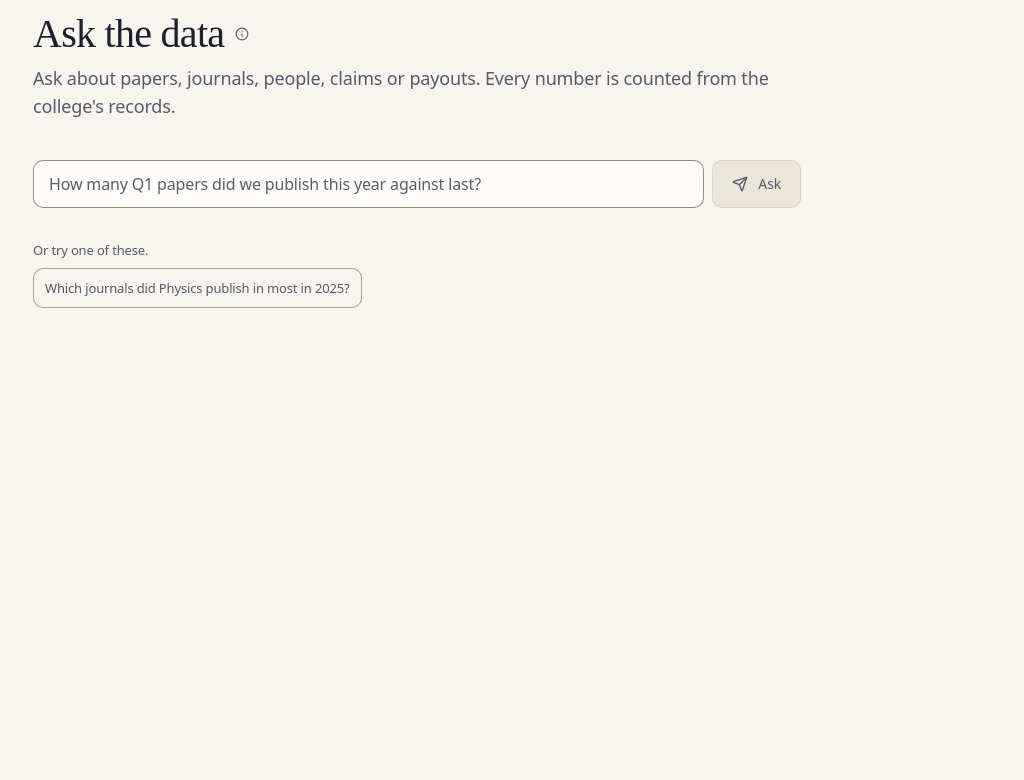
Test case: Ask the data › shows a head no money question, even one the server sent by mistake
Click the button "Which journals did Physics publish in most in 2025?": (197, 288) [33, 268, 362, 308]
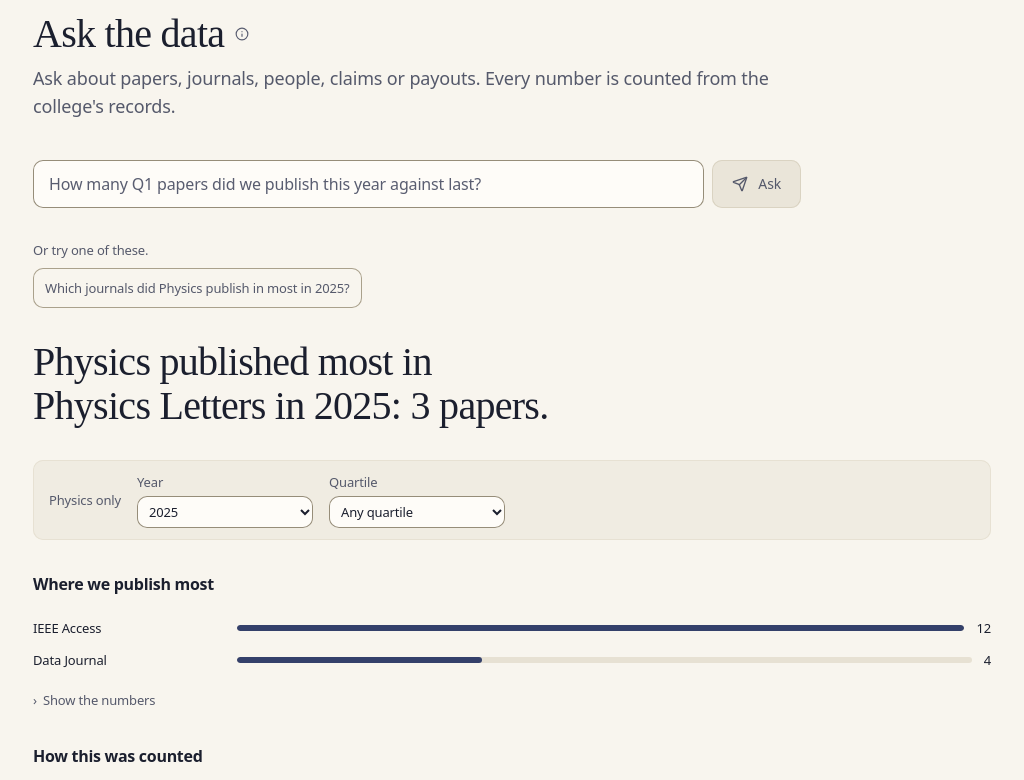
Check: the text "Physics published most in Physics Letters in 2025: 3 papers." is shown, box [33, 339, 548, 428]
